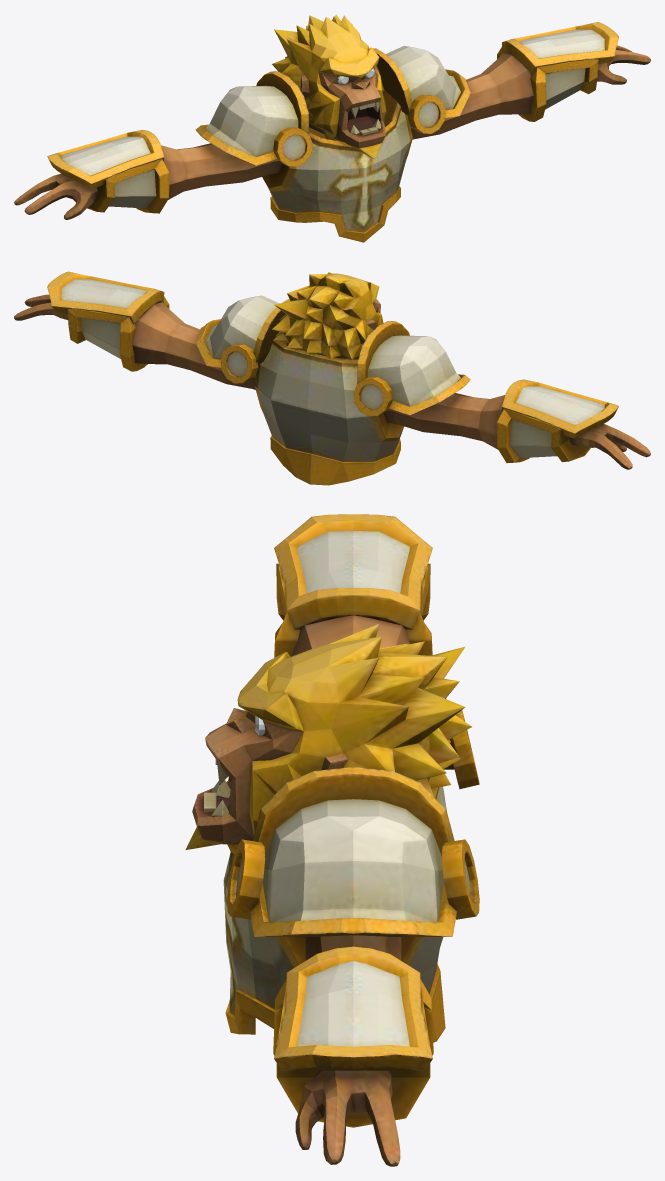
Rendered from player_knight.glb.
3 views of the same model, one above another, from view 1: azimuth 30°, elevation 25°; view 2: azimuth 150°, elevation 25°; view 3: azimuth 270°, elevation 25° (orthographic). The views are drawn at different scales.
Parts seen in each view (by area): view 1: SM_Player_Knight_LOD0; view 2: SM_Player_Knight_LOD0; view 3: SM_Player_Knight_LOD0.
Part boxes in pixels (box(x1,y1,x2,y2)): SM_Player_Knight_LOD0: box(14, 14, 650, 242); SM_Player_Knight_LOD0: box(14, 271, 650, 485); SM_Player_Knight_LOD0: box(185, 514, 479, 1166).
Bounding box in the file's own units: 1.92 × 0.5848 × 0.3923.
Materials: 1 (1 with a texture image).
